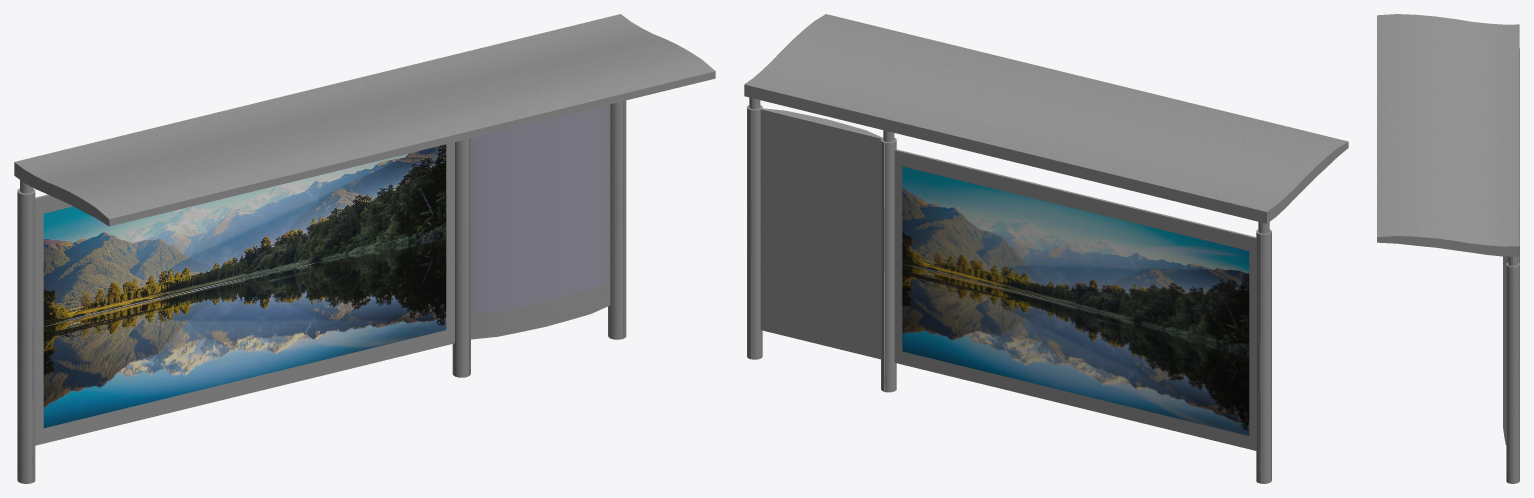
Rendered from busStation.gltf.
3 renders of one model, left to right at view 1: azimuth 30°, elevation 25°; view 2: azimuth 150°, elevation 25°; view 3: azimuth 270°, elevation 25°, orthographic. The views are drawn at different scales.
Parts seen in each view (by area): view 1: Cylinder001; view 2: Cylinder001; view 3: Cylinder001.
Boxes of the visible parts, bbox=[...] form: Cylinder001: bbox=[14, 14, 715, 483]; Cylinder001: bbox=[744, 14, 1348, 483]; Cylinder001: bbox=[1377, 14, 1519, 483].
Bounding box in the file's own units: 6.12 × 3.19 × 1.66.
Materials: 3 (3 with a texture image).
